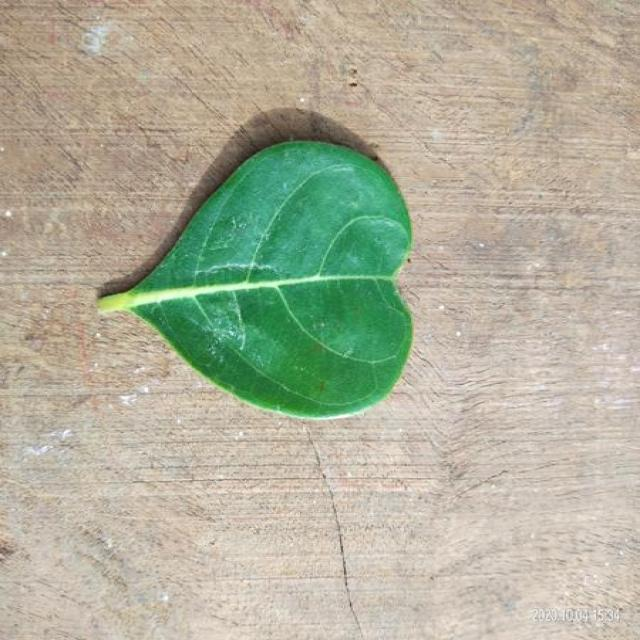Jackfruit: (98, 141, 412, 418)
